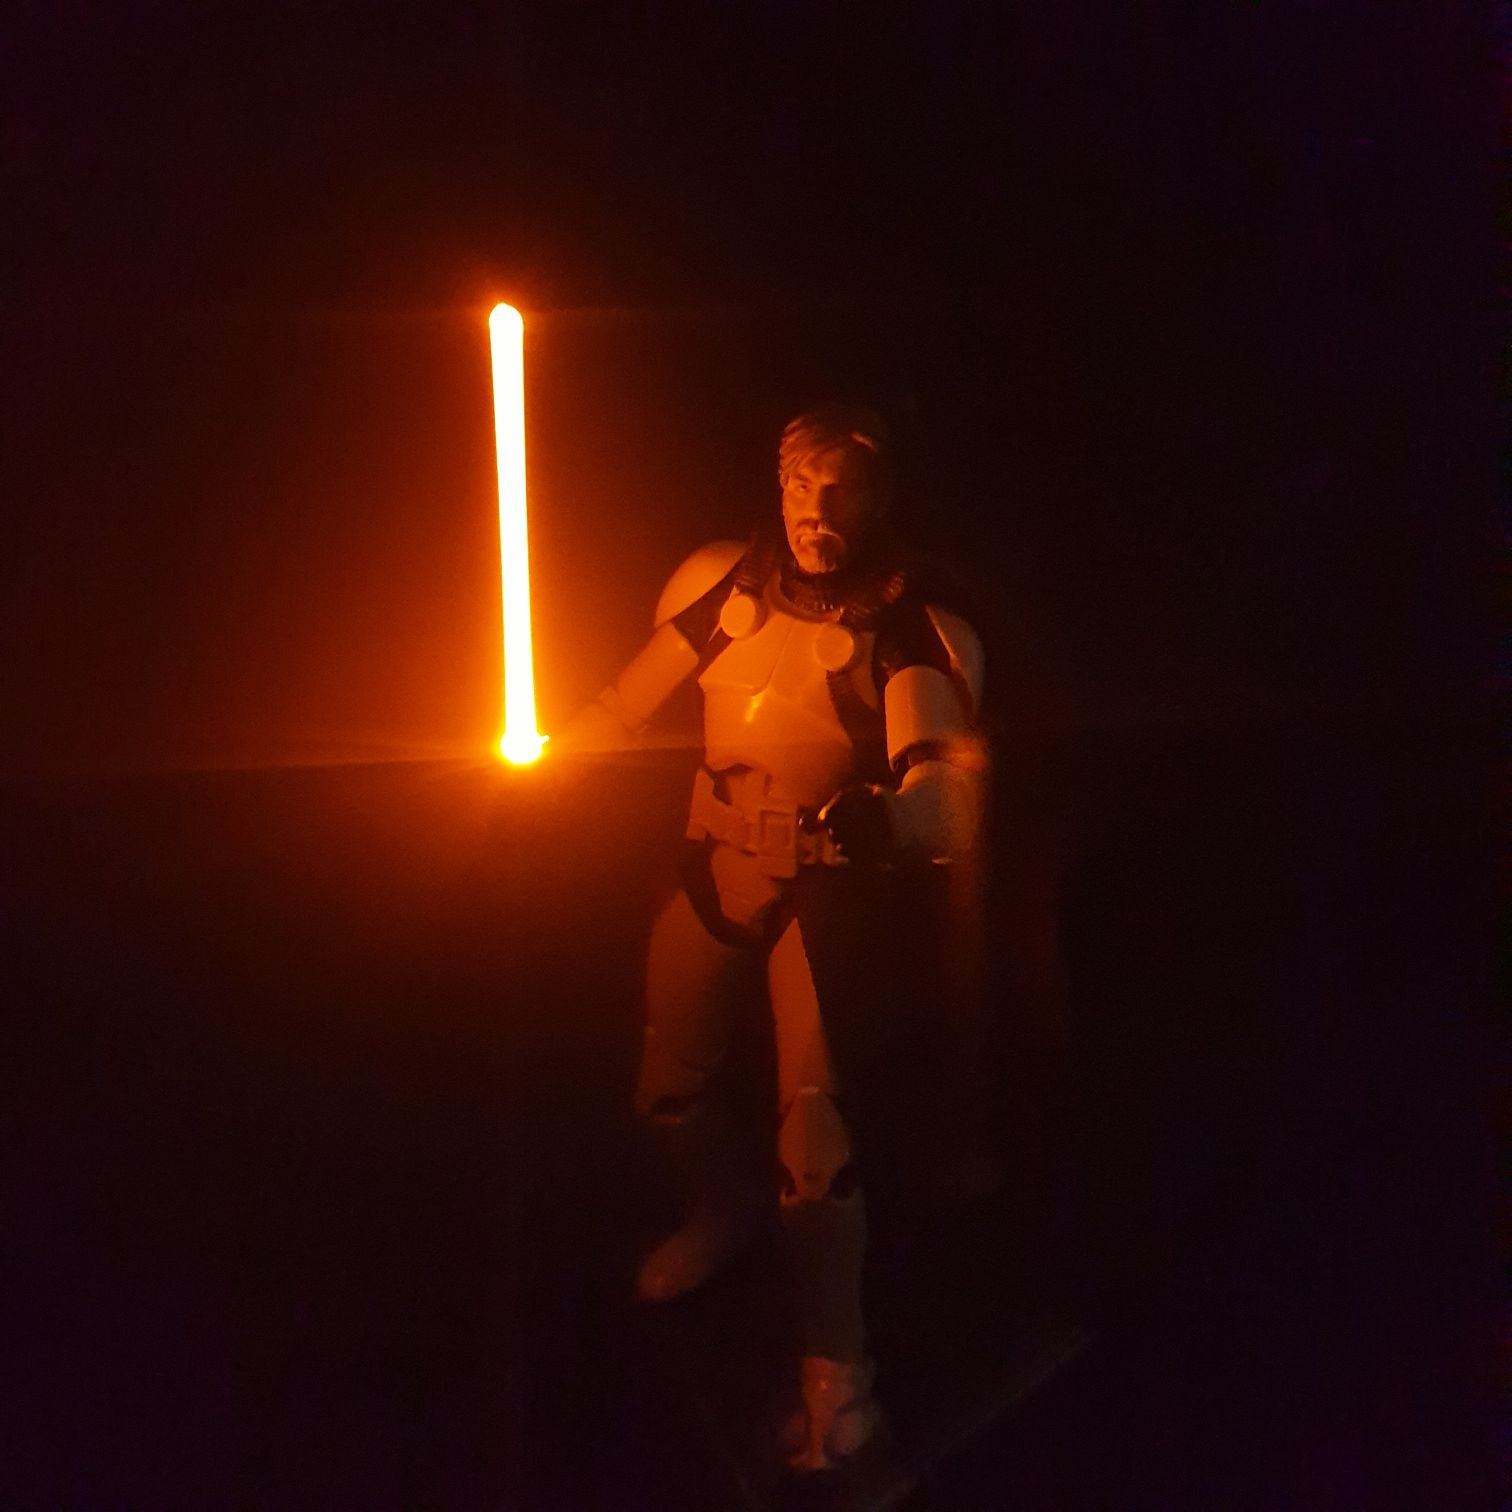lightsaber: (417, 206, 584, 838)
